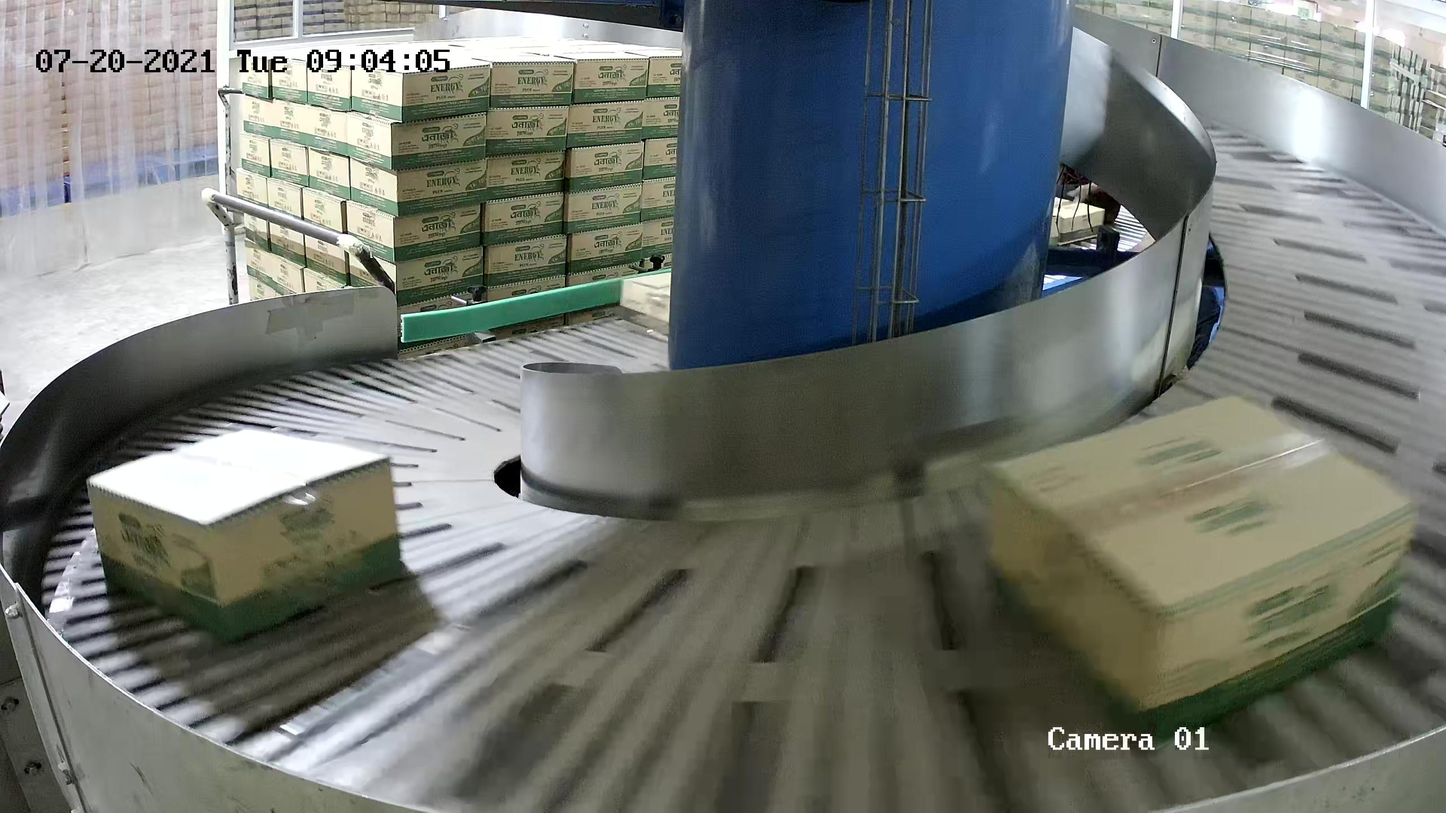Box: (978, 388, 1415, 742), (84, 424, 407, 645), (617, 270, 672, 343)
